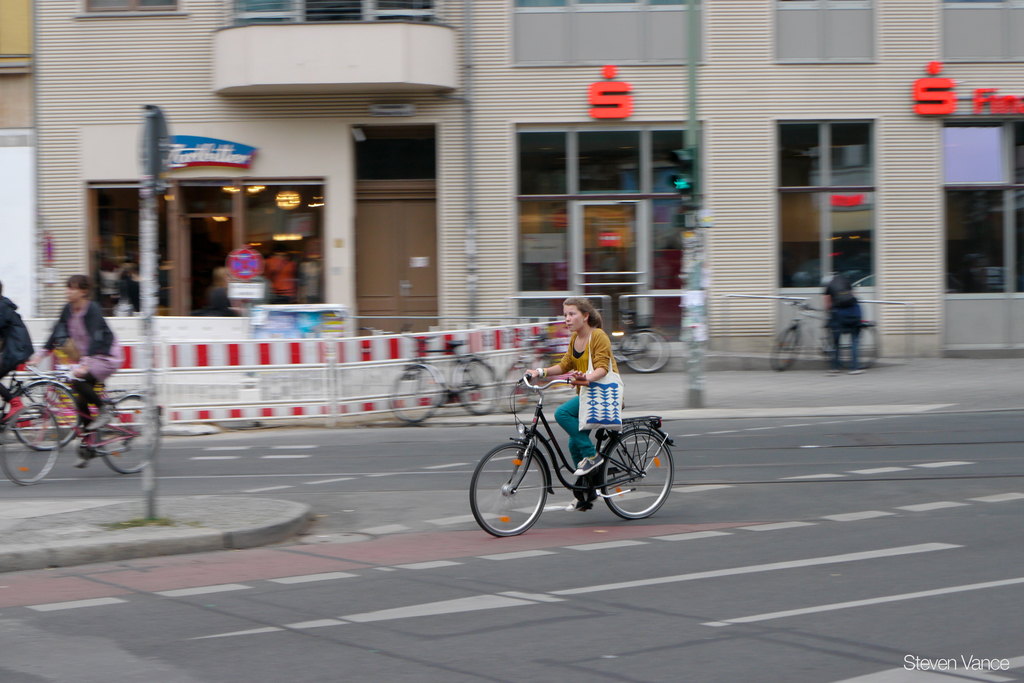Bike_toward: (432, 391, 689, 554)
